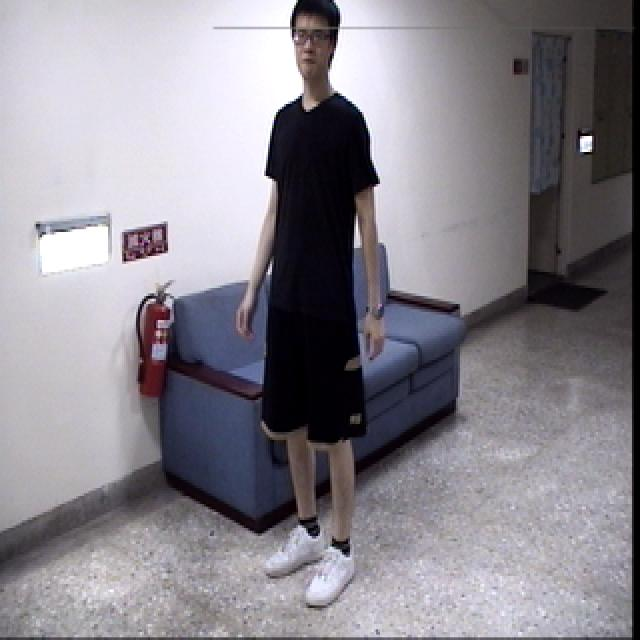stand: (217, 0, 411, 609)
